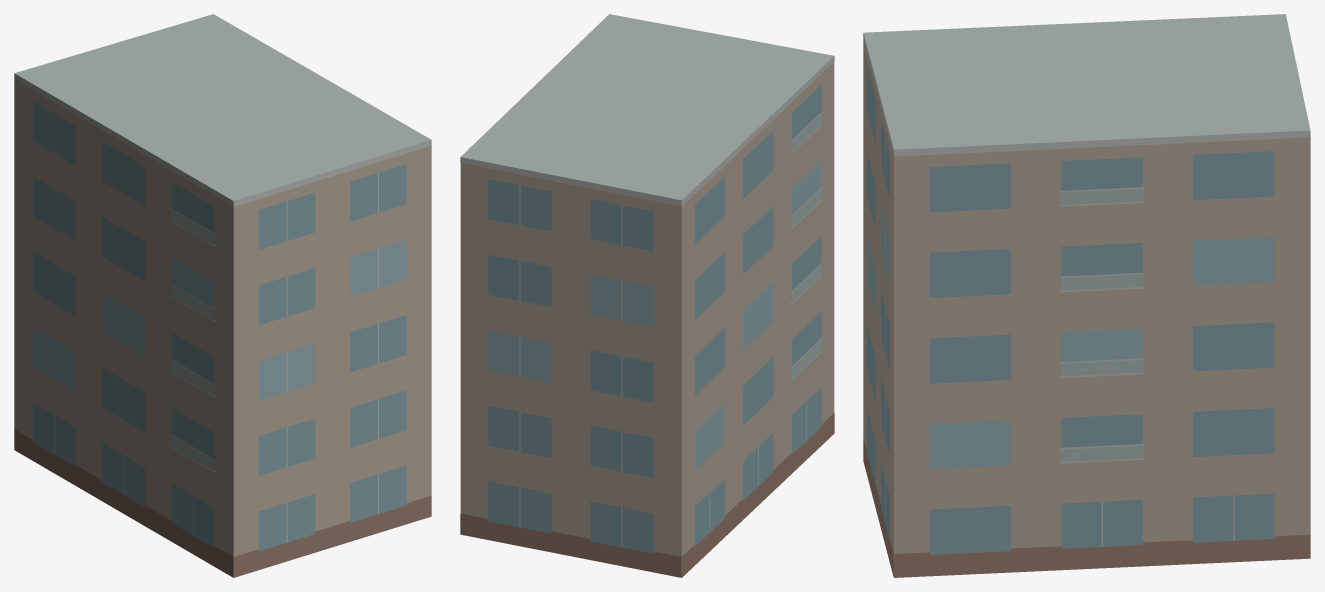
The model's file is survey-upis-32743205.glb.
3 views of the same model, side by side, from view 1: azimuth 30°, elevation 25°; view 2: azimuth 150°, elevation 25°; view 3: azimuth 270°, elevation 25° (orthographic). The views are drawn at different scales.
Parts seen in each view (by area): view 1: survey-upis-32743205.tmp; view 2: survey-upis-32743205.tmp; view 3: survey-upis-32743205.tmp.
Part boxes in pixels (x1=…): survey-upis-32743205.tmp: x1=14, y1=14, x2=431, y2=577; survey-upis-32743205.tmp: x1=460, y1=14, x2=834, y2=577; survey-upis-32743205.tmp: x1=863, y1=14, x2=1310, y2=577.
Size of the model in its own units: 10.38 by 15.25 by 14.45.
